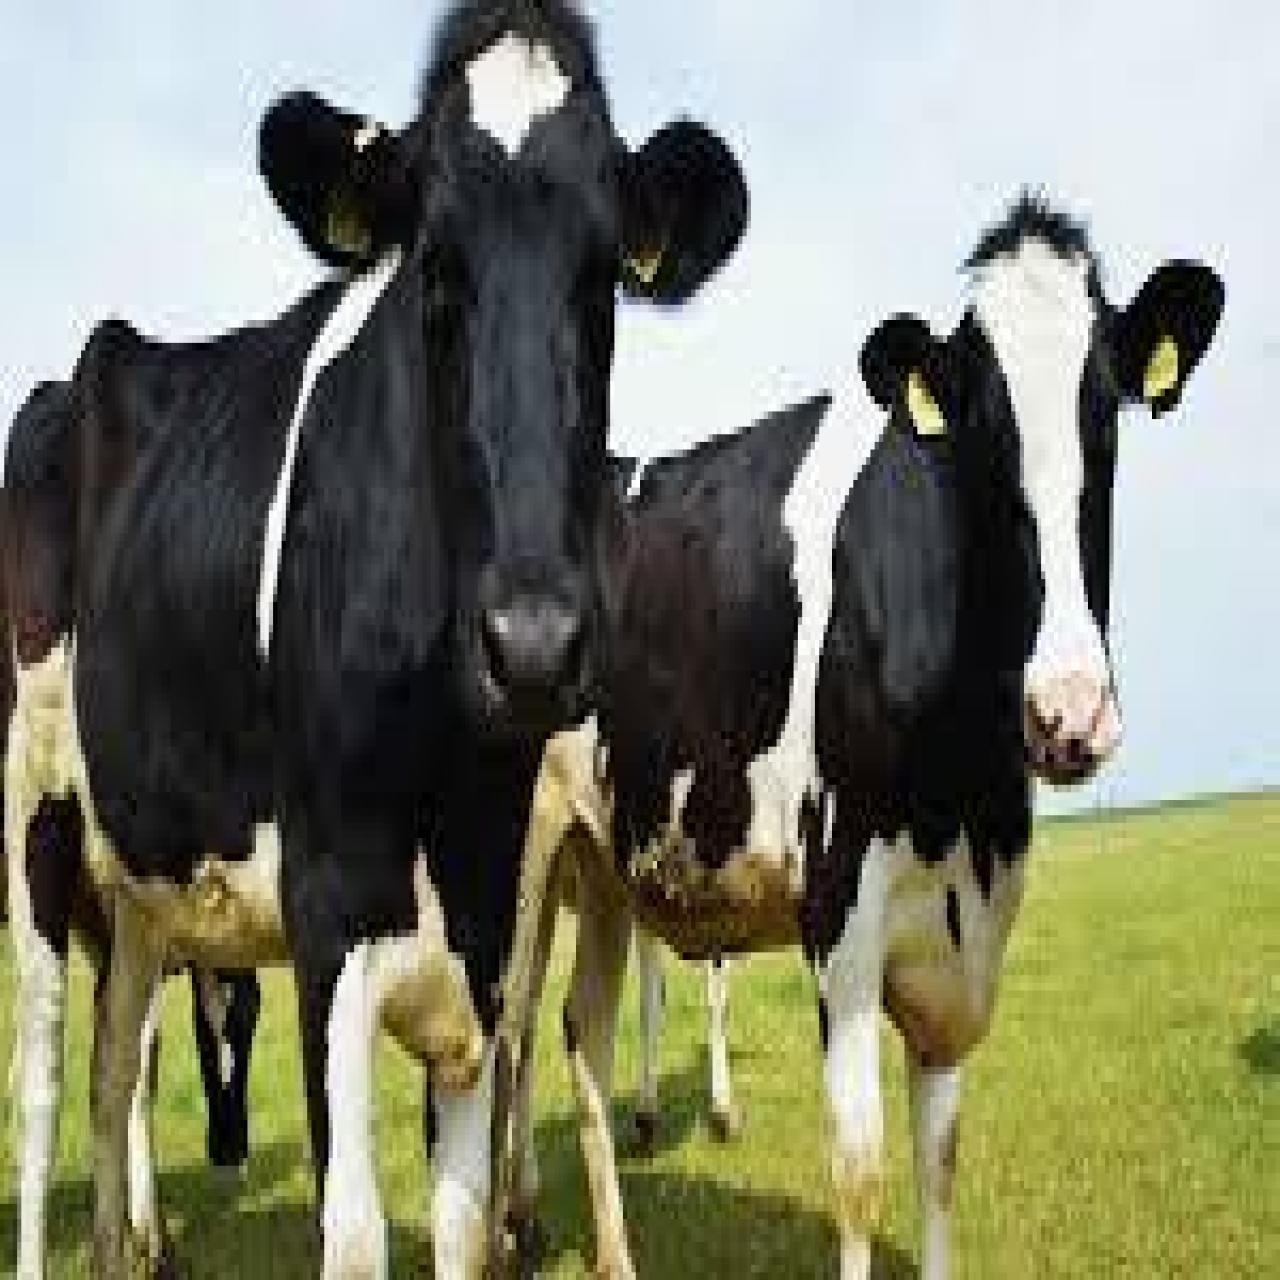cow: (0, 0, 751, 1280), (508, 198, 1228, 1280)
